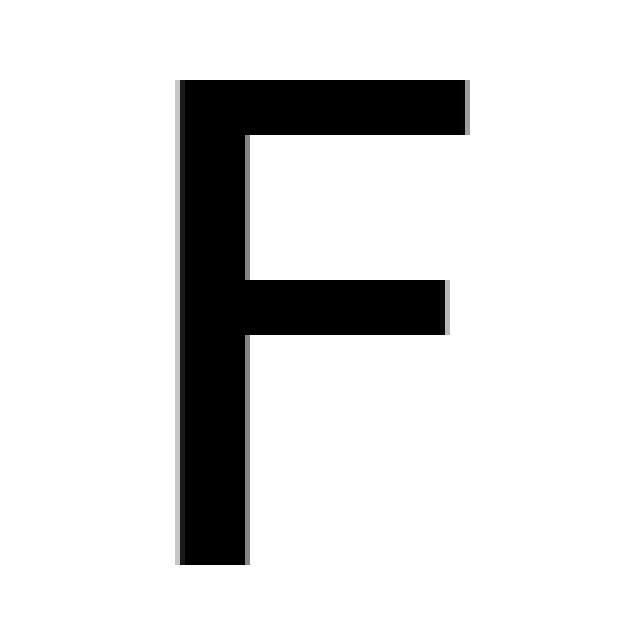F: (168, 70, 468, 565)
